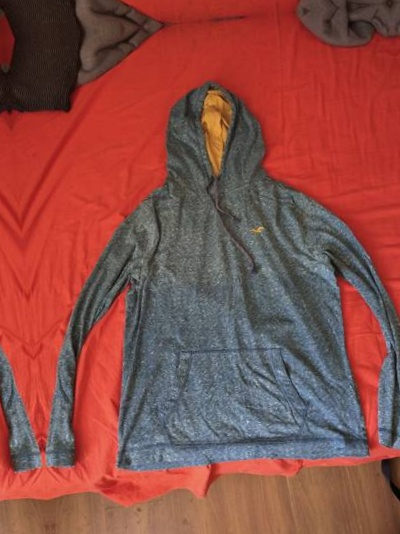Hoodie: (21, 68, 400, 524), (0, 106, 37, 534), (398, 31, 400, 487)
